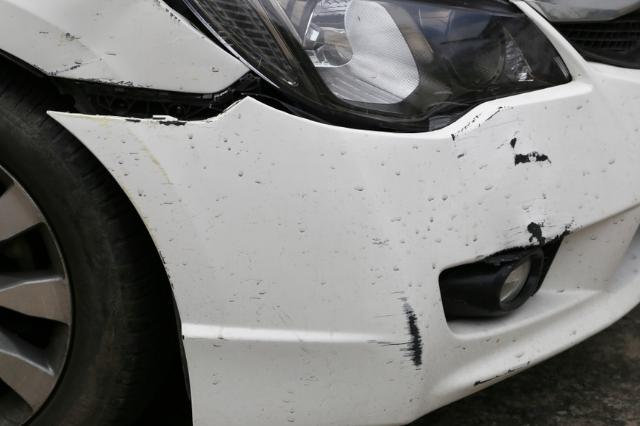Bumper: (80, 100, 611, 393)
